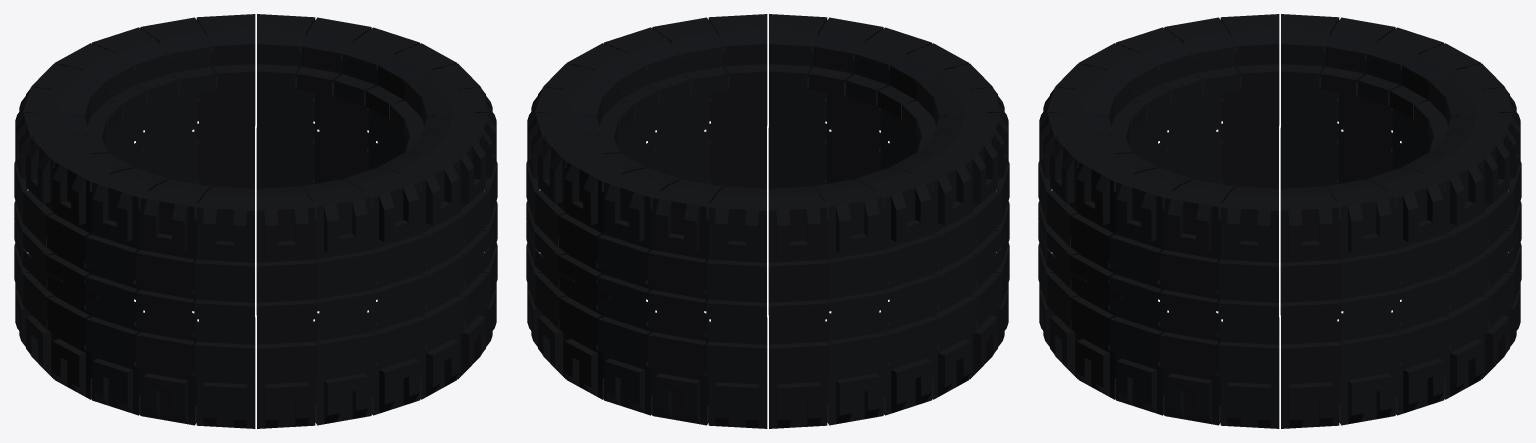
The picture shows the model from 3 angles, left to right: view 1: azimuth 30°, elevation 25°; view 2: azimuth 150°, elevation 25°; view 3: azimuth 270°, elevation 25°; orthographic projection.
Visible parts, largest first — view 1: node; view 2: node; view 3: node.
Part boxes in pixels (x1,y1,x2,y2): node: (14,14,497,428); node: (526,14,1009,428); node: (1038,14,1521,428).
Bounding box in the file's own units: 108 × 53.5 × 108.
Materials: 1 (1 with a texture image).
